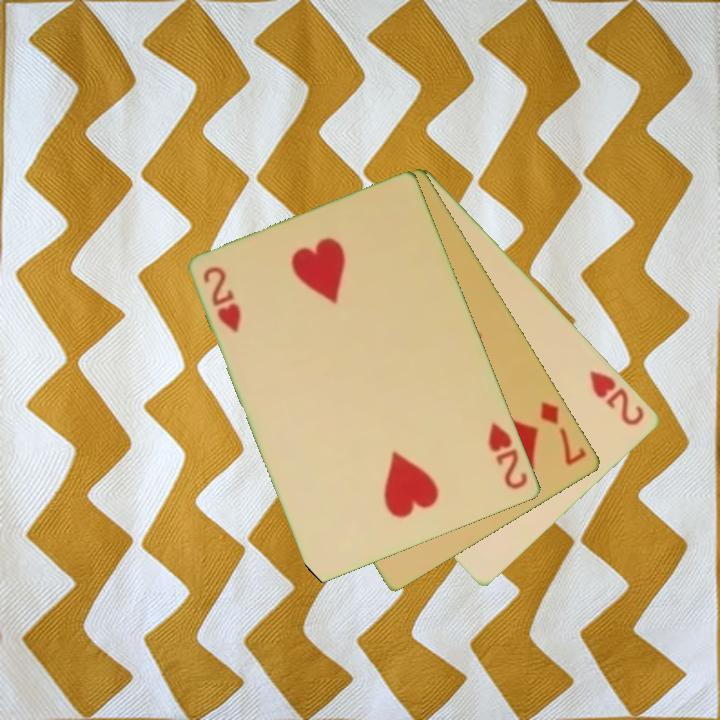2h: (586, 367, 648, 429), (484, 419, 532, 493), (200, 263, 245, 336)
7d: (537, 398, 590, 469)
